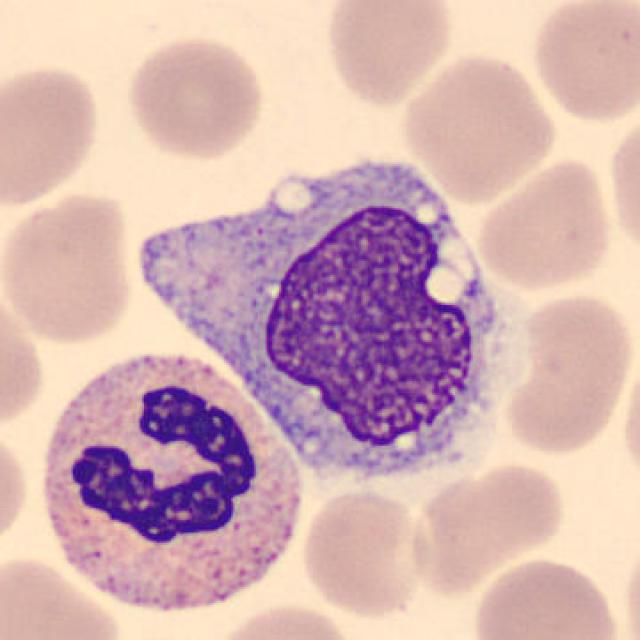Monocyte: (121, 140, 521, 496)
Neutrophil: (30, 338, 313, 633)
RBC: (396, 49, 560, 204), (499, 287, 636, 457), (405, 457, 569, 596), (0, 189, 139, 347), (473, 155, 615, 293), (121, 32, 268, 164), (297, 484, 432, 620), (0, 58, 103, 210), (320, 0, 457, 109), (526, 0, 638, 127), (469, 553, 623, 640), (0, 552, 126, 640), (0, 282, 48, 436), (208, 599, 363, 640), (604, 109, 640, 261), (0, 424, 32, 556), (618, 333, 640, 488), (620, 529, 640, 640)
